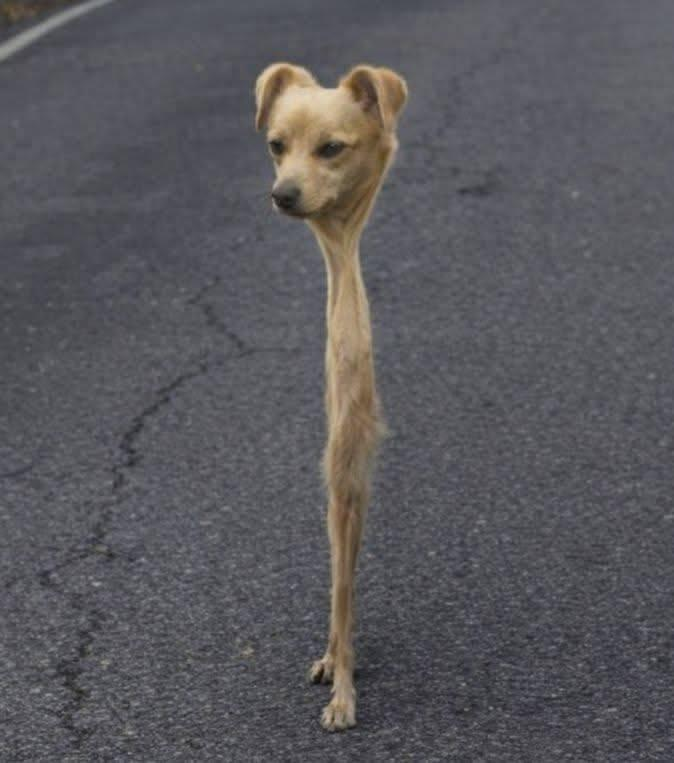adult_dog: (255, 60, 410, 733)
